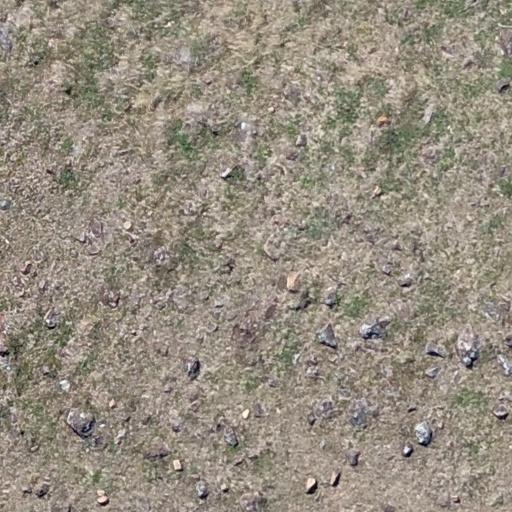stone: (455, 326, 481, 368), (65, 407, 96, 439), (305, 397, 338, 426), (355, 319, 392, 343), (346, 399, 372, 428), (412, 418, 432, 452), (286, 288, 312, 312), (316, 323, 338, 349), (392, 299, 412, 324), (481, 300, 503, 322), (238, 491, 262, 511), (430, 403, 448, 429), (100, 288, 121, 310), (120, 221, 140, 244), (262, 237, 281, 261), (0, 25, 15, 55), (419, 146, 441, 166), (152, 247, 172, 267), (424, 340, 446, 358), (222, 426, 240, 448), (143, 447, 171, 461), (171, 291, 190, 311), (88, 218, 105, 240), (496, 354, 512, 376), (286, 271, 302, 293), (360, 340, 384, 354), (372, 112, 394, 127), (8, 405, 22, 428), (43, 309, 59, 329), (263, 302, 279, 322), (184, 386, 201, 404), (491, 404, 509, 420), (323, 290, 339, 308), (128, 292, 144, 310), (34, 482, 51, 498), (148, 95, 164, 112), (37, 277, 52, 295), (497, 302, 512, 320), (186, 359, 200, 378), (496, 78, 512, 94), (378, 364, 394, 380), (154, 342, 170, 358), (195, 481, 209, 499), (397, 273, 414, 287), (424, 366, 442, 379), (8, 428, 23, 443), (252, 402, 266, 418), (346, 450, 360, 466), (440, 45, 456, 59), (169, 458, 185, 472), (304, 477, 318, 493), (305, 365, 321, 379), (294, 133, 308, 148), (208, 308, 223, 322), (20, 260, 33, 276), (116, 147, 135, 157), (205, 321, 219, 334), (75, 231, 88, 245), (337, 388, 352, 400), (497, 393, 512, 405), (220, 167, 234, 179), (370, 185, 382, 199), (285, 149, 299, 161), (170, 419, 182, 433), (461, 58, 475, 70), (326, 352, 340, 364), (402, 444, 414, 458), (330, 471, 340, 487), (58, 379, 70, 392), (21, 484, 34, 496), (46, 38, 58, 51), (97, 494, 110, 506), (239, 408, 253, 419), (391, 240, 403, 252), (115, 428, 127, 440), (452, 370, 462, 384), (246, 451, 260, 461), (307, 412, 317, 426), (292, 352, 302, 366), (380, 265, 392, 276), (266, 377, 278, 388), (28, 443, 41, 453), (123, 102, 134, 113), (233, 457, 245, 467), (42, 364, 52, 376), (506, 332, 512, 350), (163, 384, 173, 394), (451, 494, 461, 504), (220, 483, 230, 493), (200, 291, 210, 301), (122, 220, 132, 230), (240, 121, 250, 131), (108, 398, 116, 410), (46, 168, 56, 177), (214, 300, 225, 308), (96, 489, 106, 497), (204, 78, 212, 86), (267, 106, 275, 114)
